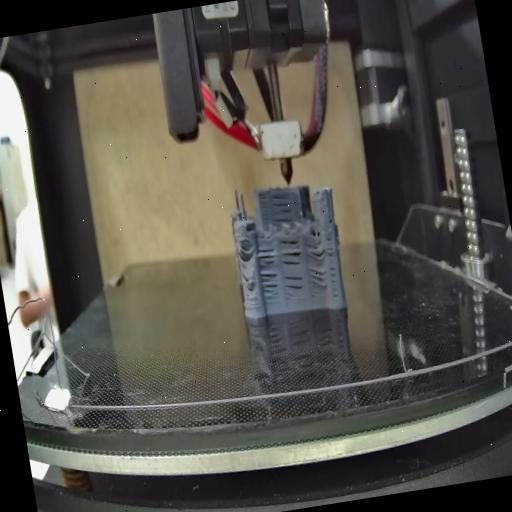cracks: (322, 238, 342, 299), (267, 188, 295, 224), (258, 266, 282, 302), (276, 235, 302, 266), (282, 273, 306, 305), (307, 264, 329, 294), (254, 242, 276, 268), (304, 236, 324, 264), (237, 243, 252, 263), (324, 205, 334, 226), (241, 273, 251, 285)
